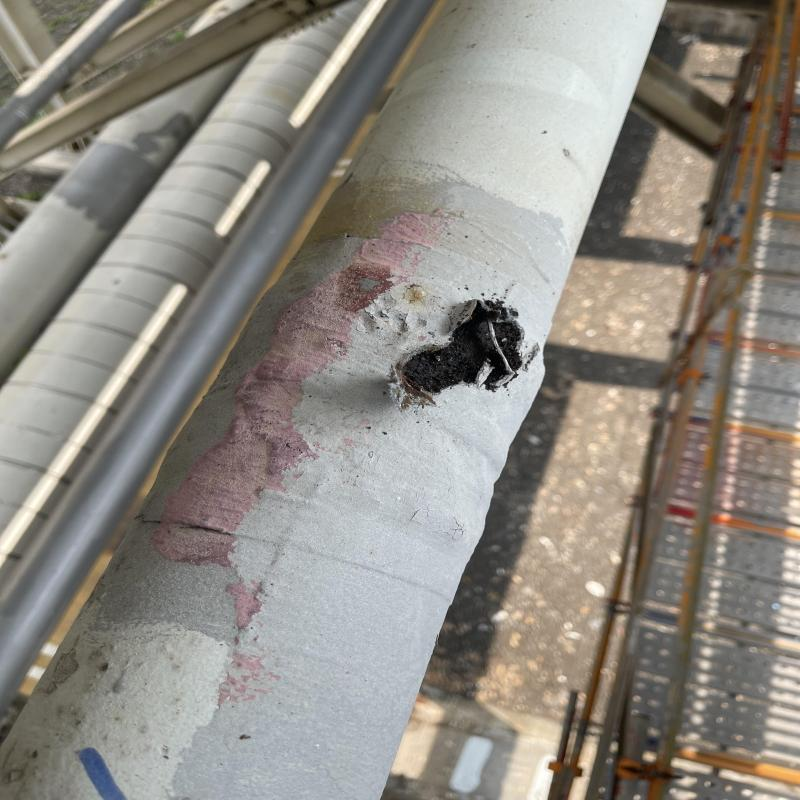corrosion: (402, 288, 545, 398)
